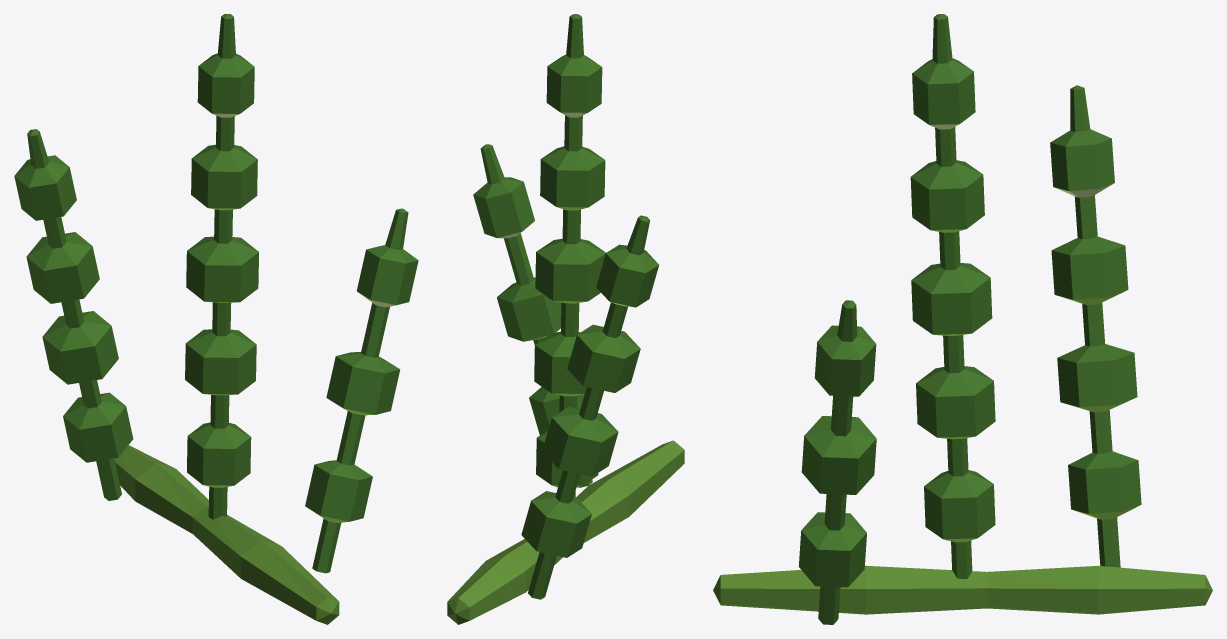
File: sea_grape.gltf
The picture shows the model from 3 angles, left to right: view 1: azimuth 30°, elevation 25°; view 2: azimuth 150°, elevation 25°; view 3: azimuth 270°, elevation 25°; orthographic projection. The views are drawn at different scales.
Visible parts, largest first — view 1: sea_grape; view 2: sea_grape; view 3: sea_grape.
Boxes of the visible parts, left/top/right/bottom form: sea_grape: left=14, top=14, right=418, bottom=624; sea_grape: left=447, top=14, right=684, bottom=624; sea_grape: left=713, top=14, right=1212, bottom=624.
Bounding box in the file's own units: 0.2465 × 0.4527 × 0.3416.
